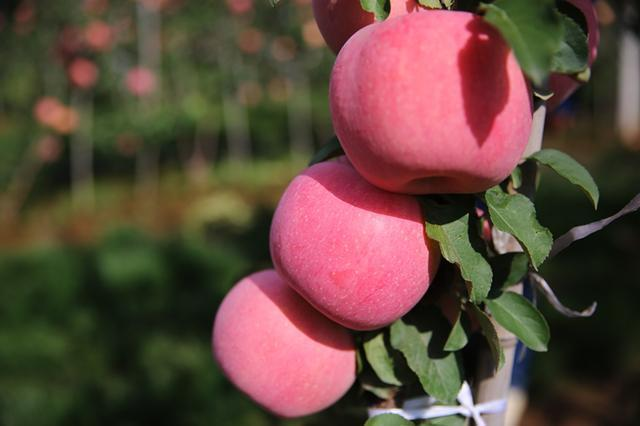apple: (318, 4, 529, 192), (268, 156, 439, 327), (211, 266, 357, 410), (314, 1, 394, 55)
